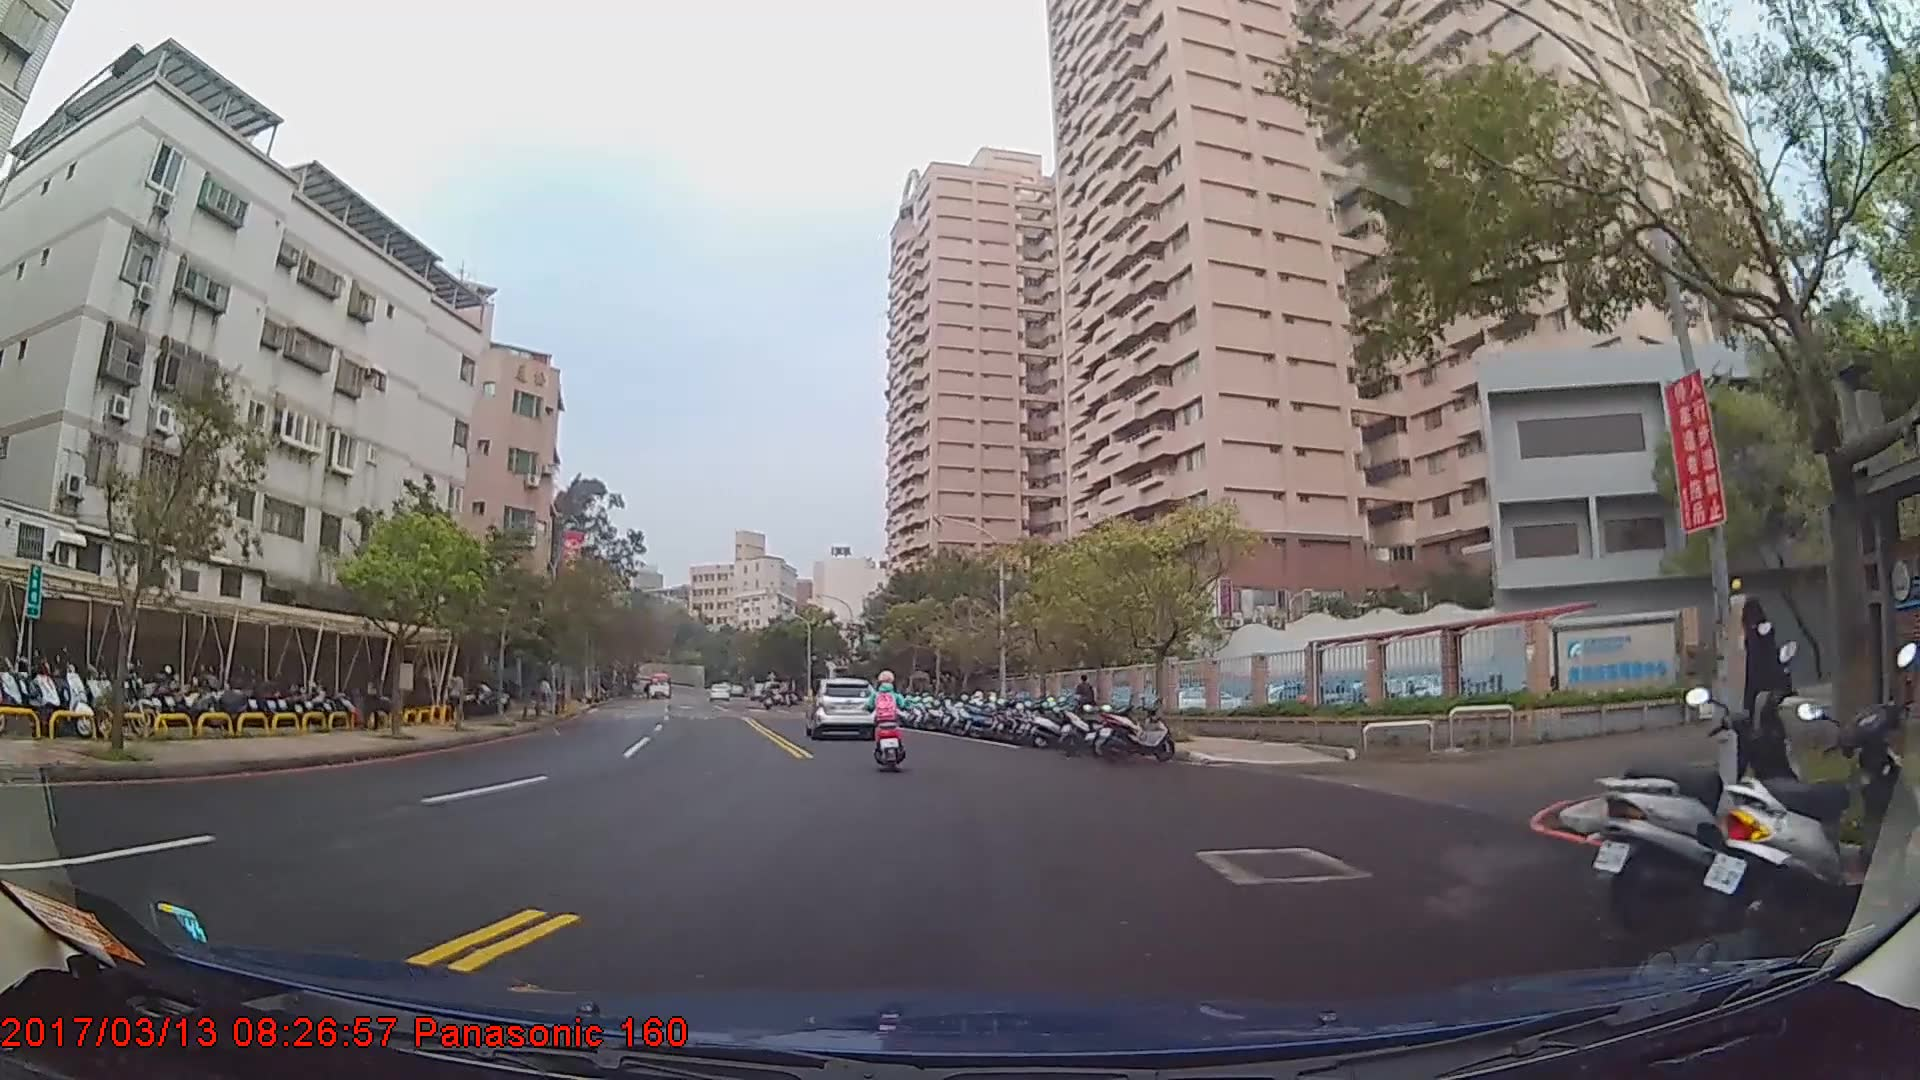pedestrian: (1719, 594, 1796, 815), (358, 664, 385, 736), (1076, 675, 1097, 732)
rider: (866, 671, 908, 768)
vehicle: (804, 678, 881, 742), (642, 670, 670, 700)
